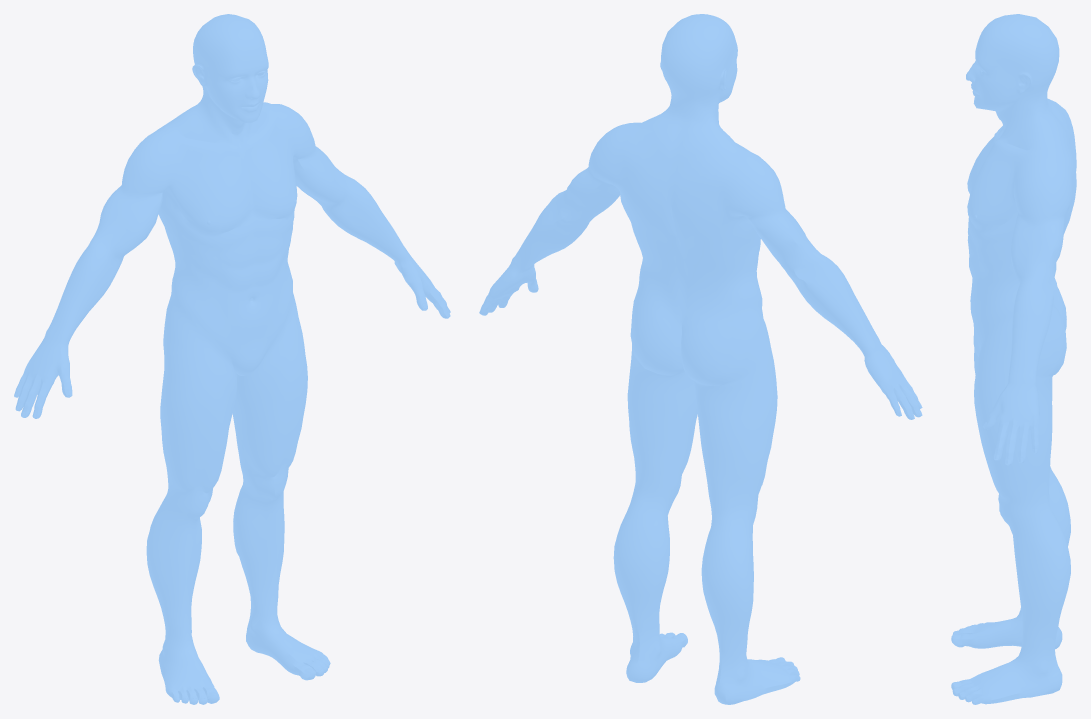
The picture shows the model from 3 angles, left to right: view 1: azimuth 30°, elevation 25°; view 2: azimuth 150°, elevation 25°; view 3: azimuth 270°, elevation 25°; orthographic projection.
Parts seen in each view (by area): view 1: skin; view 2: skin; view 3: skin.
Part boxes in pixels (x1,y1,x2,y2): skin: (14, 14, 450, 704); skin: (479, 14, 922, 704); skin: (951, 14, 1076, 704).
Bounding box in the file's own units: 16.45 × 23.91 × 4.15.
